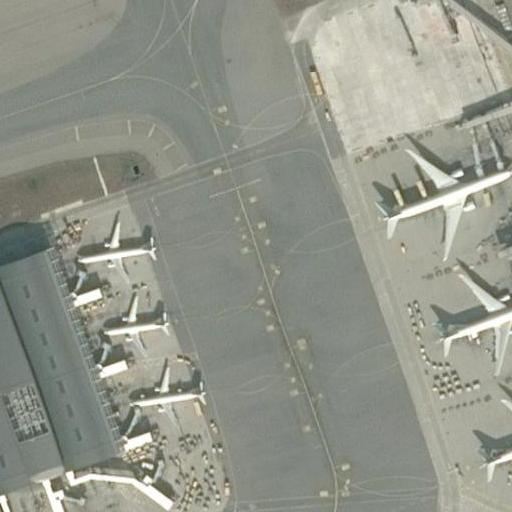Aircraft: (373, 136, 512, 258), (423, 269, 512, 378), (70, 210, 165, 286), (96, 294, 184, 362), (125, 366, 218, 429), (469, 379, 512, 497)
